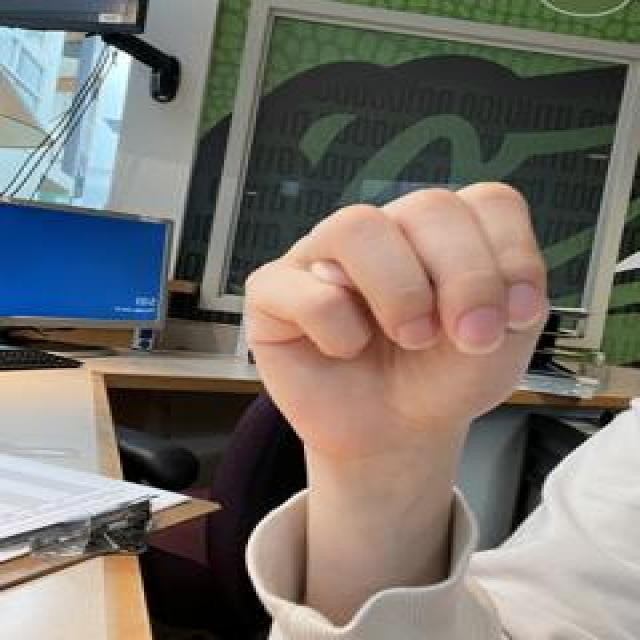M: (231, 180, 558, 462)
